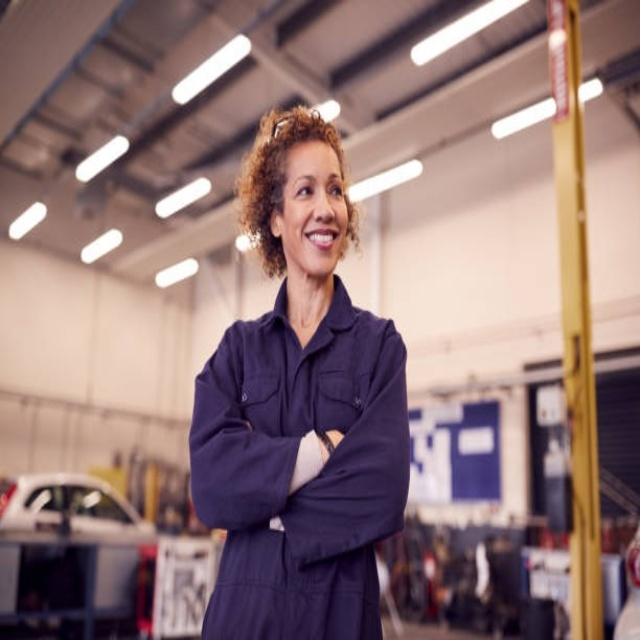Sin_gafas: (287, 168, 345, 205)
Sin_mascara: (295, 220, 343, 264)
